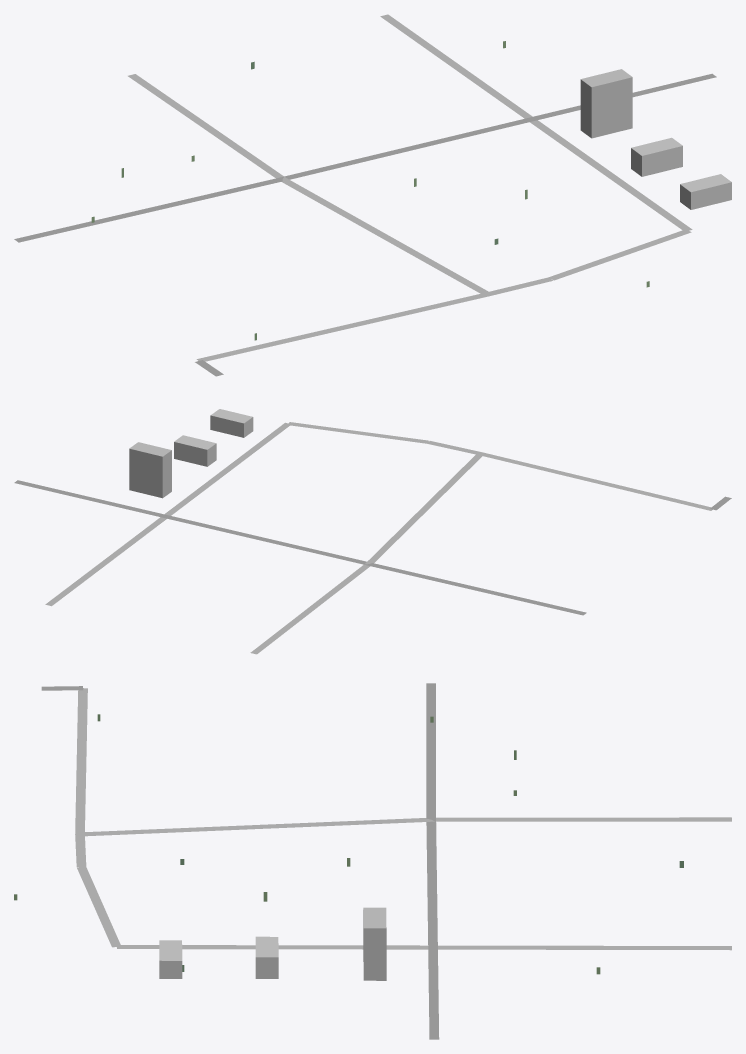
3 renders of one model, top to bottom at view 1: azimuth 30°, elevation 25°; view 2: azimuth 150°, elevation 25°; view 3: azimuth 270°, elevation 25°, orthographic. The views are drawn at different scales.
Size of the model in its own units: 597 by 43.13 by 517.
